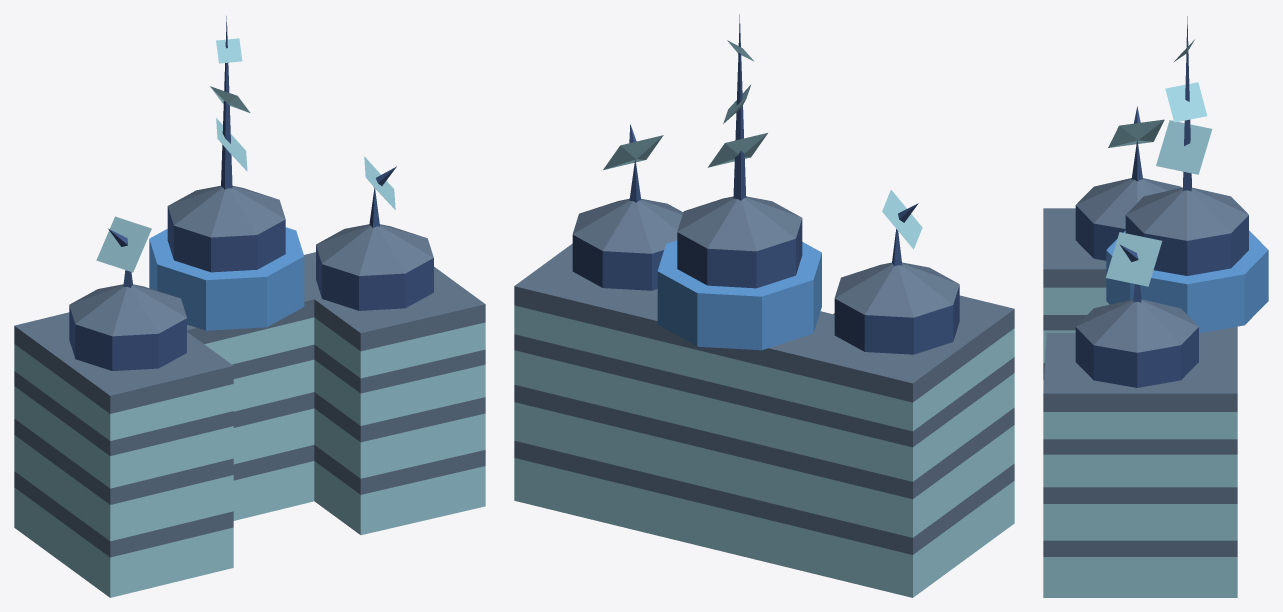
File: xTVStation.fbx
3 views of the same model, side by side, from view 1: azimuth 30°, elevation 25°; view 2: azimuth 150°, elevation 25°; view 3: azimuth 270°, elevation 25° (orthographic). The views are drawn at different scales.
Parts seen in each view (by area): view 1: Cube.010, Cylinder.008, Cylinder.009, Cylinder.010, Cone.033, Cone.026, Cone.029; view 2: Cube.010, Cylinder.008, Cylinder.009, Cylinder.010, Cone.033, Cone.026, Cone.029; view 3: Cube.010, Cylinder.008, Cylinder.010, Cylinder.009, Cone.033, Cone.029, Cone.026.
Part boxes in pixels (bbox=[...]): Cube.010: bbox=[14, 252, 485, 597]; Cylinder.008: bbox=[149, 185, 304, 330]; Cylinder.009: bbox=[69, 284, 186, 370]; Cylinder.010: bbox=[316, 224, 433, 310]; Cone.033: bbox=[210, 16, 250, 189]; Cone.026: bbox=[96, 216, 151, 287]; Cone.029: bbox=[364, 156, 396, 227]; Cube.010: bbox=[514, 243, 1014, 597]; Cylinder.008: bbox=[657, 196, 821, 350]; Cylinder.009: bbox=[834, 262, 959, 354]; Cylinder.010: bbox=[572, 198, 683, 290]; Cone.033: bbox=[707, 14, 767, 200]; Cone.026: bbox=[882, 190, 922, 266]; Cone.029: bbox=[603, 124, 663, 202]; Cube.010: bbox=[1043, 208, 1237, 597]; Cylinder.008: bbox=[1106, 187, 1268, 333]; Cylinder.010: bbox=[1075, 299, 1198, 387]; Cylinder.009: bbox=[1075, 178, 1181, 260]; Cone.033: bbox=[1156, 16, 1212, 191]; Cone.029: bbox=[1106, 232, 1162, 302]; Cone.026: bbox=[1108, 106, 1164, 181].
Bounding box in the file's own units: 7000 × 8660 × 3596.
